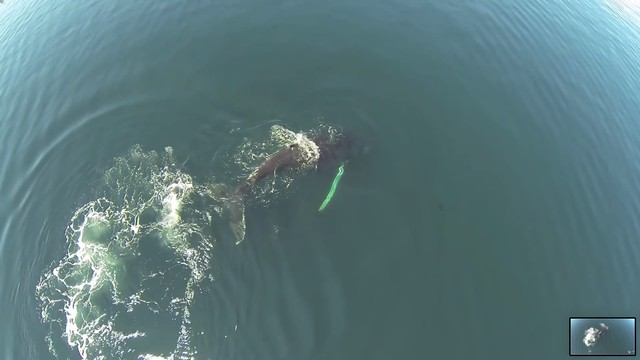whale: (196, 95, 394, 251)
